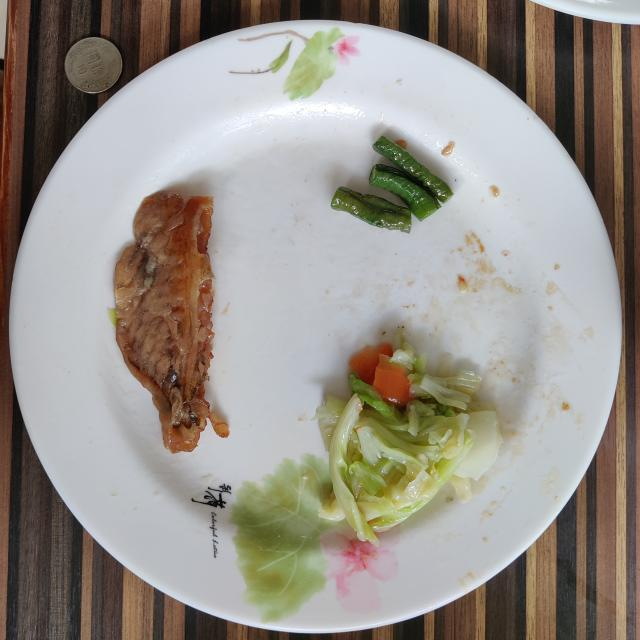Kabayaki sea bream fillet: (114, 191, 229, 452)
cabbage: (315, 329, 502, 545)
coin: (65, 38, 122, 94)
